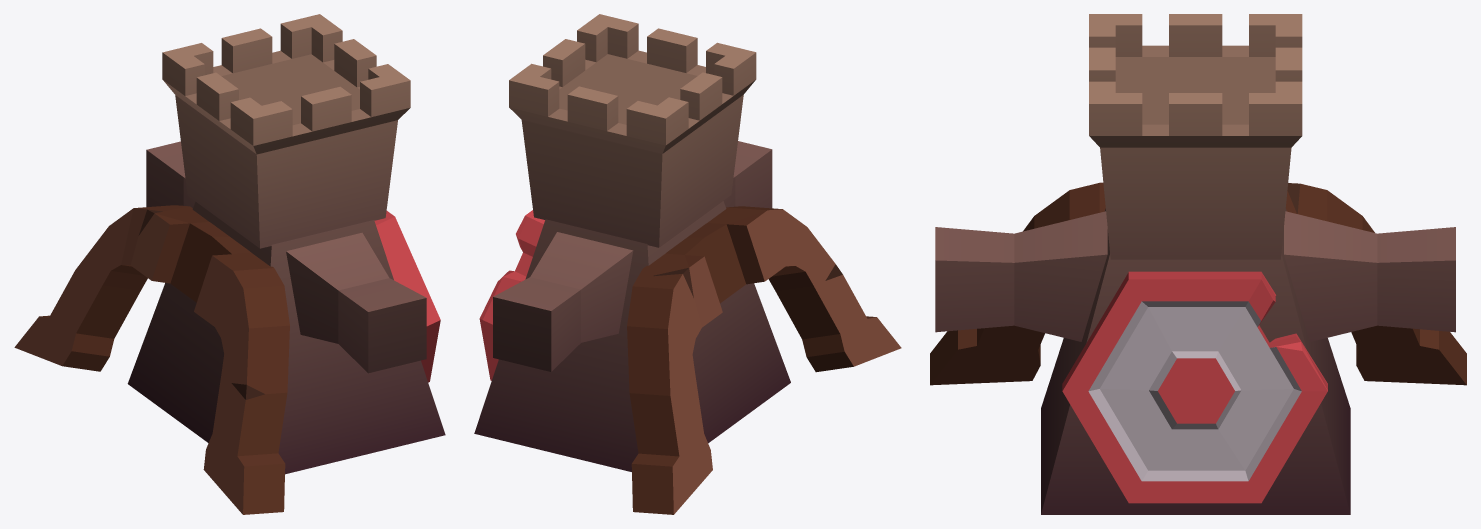
The model's file is definitely tower 1.fbx.
3 views of the same model, side by side, from view 1: azimuth 30°, elevation 25°; view 2: azimuth 150°, elevation 25°; view 3: azimuth 270°, elevation 25° (orthographic). The views are drawn at different scales.
Parts seen in each view (by area): view 1: literary tower 2; view 2: literary tower 2; view 3: literary tower 2.
Boxes of the visible parts, left/top/right/bottom form: literary tower 2: left=14, top=14, right=445, bottom=514; literary tower 2: left=474, top=14, right=901, bottom=514; literary tower 2: left=930, top=14, right=1466, bottom=514.
Size of the model in its own units: 166 by 201 by 243.
